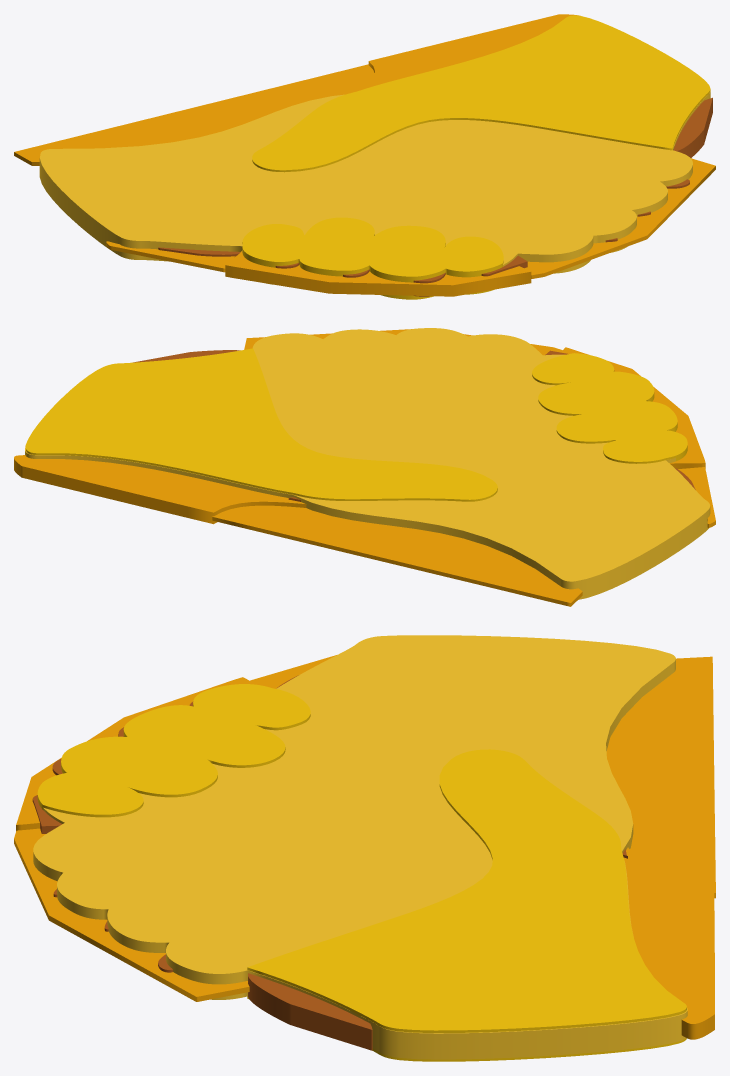
The model's file is emoji_u1f91d.glb.
3 views of the same model, one above another, from view 1: azimuth 30°, elevation 25°; view 2: azimuth 150°, elevation 25°; view 3: azimuth 270°, elevation 25° (orthographic). The views are drawn at different scales.
Visible parts, largest first — view 1: emoji_u1f91d; view 2: emoji_u1f91d; view 3: emoji_u1f91d.
Part boxes in pixels (bbox=[...]): emoji_u1f91d: bbox=[14, 14, 715, 299]; emoji_u1f91d: bbox=[14, 328, 715, 606]; emoji_u1f91d: bbox=[14, 635, 715, 1061].
Bounding box in the file's own units: 0.0332 × 0.0012 × 0.0244.
